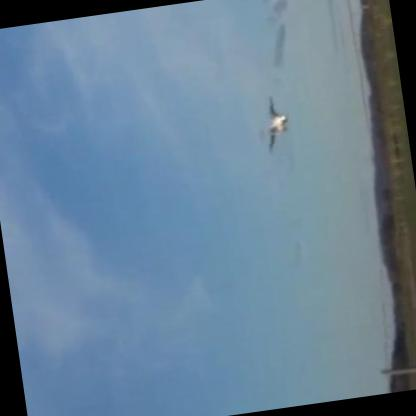plane: (262, 92, 294, 153)
